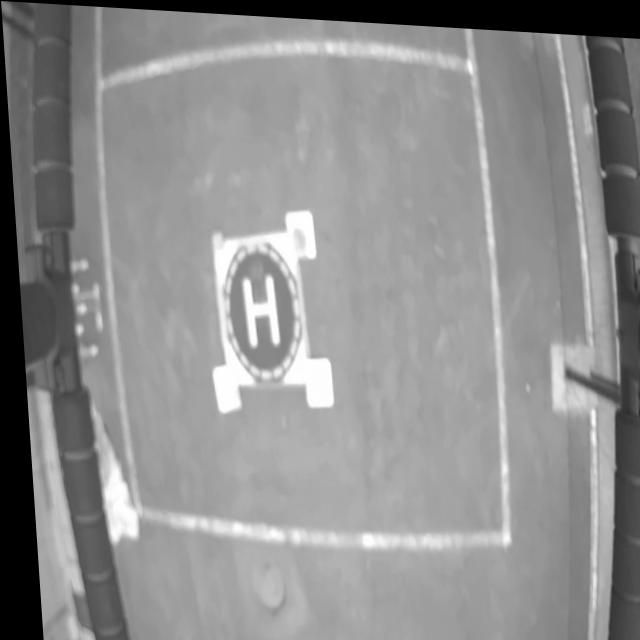Helipad: (236, 268, 276, 345)
